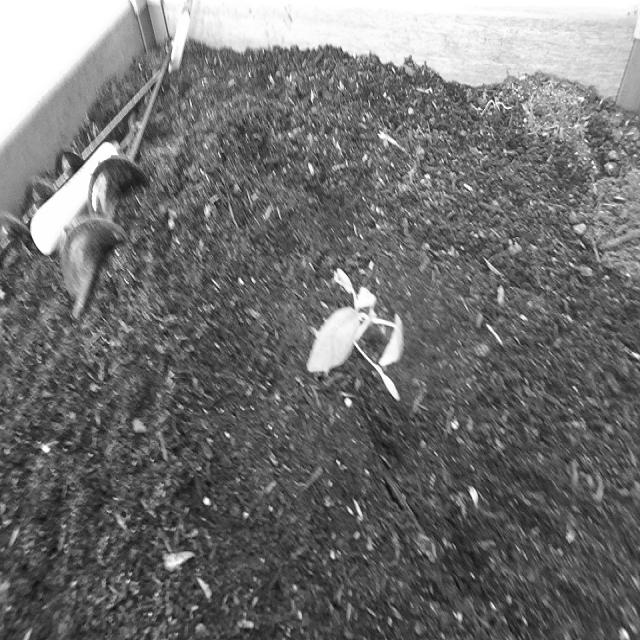Healthy: (292, 230, 419, 432)
